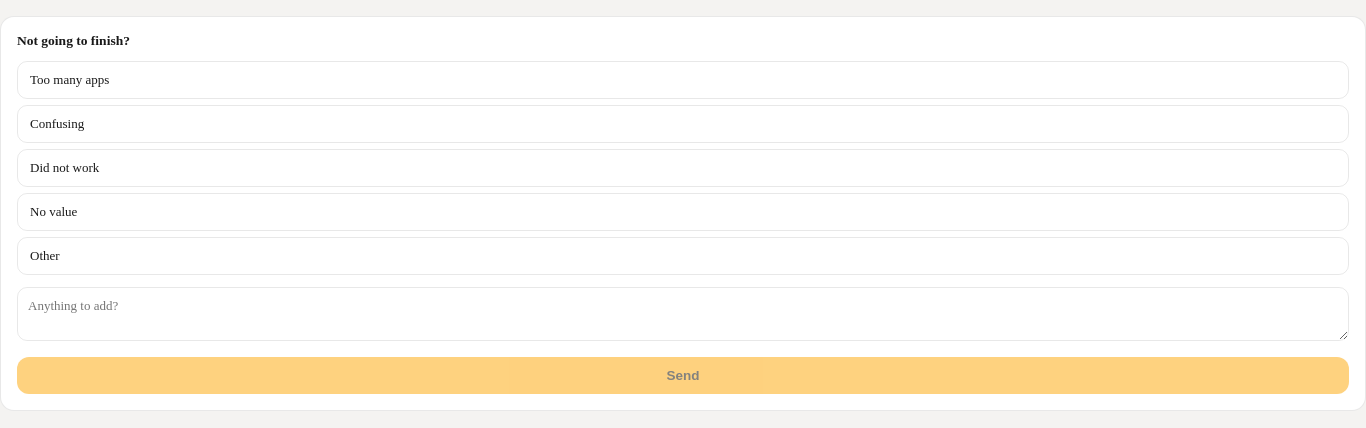
StopReasonCard — why did you stop, in one tap › sends the chosen reason and the note, then shows the answer back
Click the radio button "No value" at [54, 212], box [17,193,1349,231]
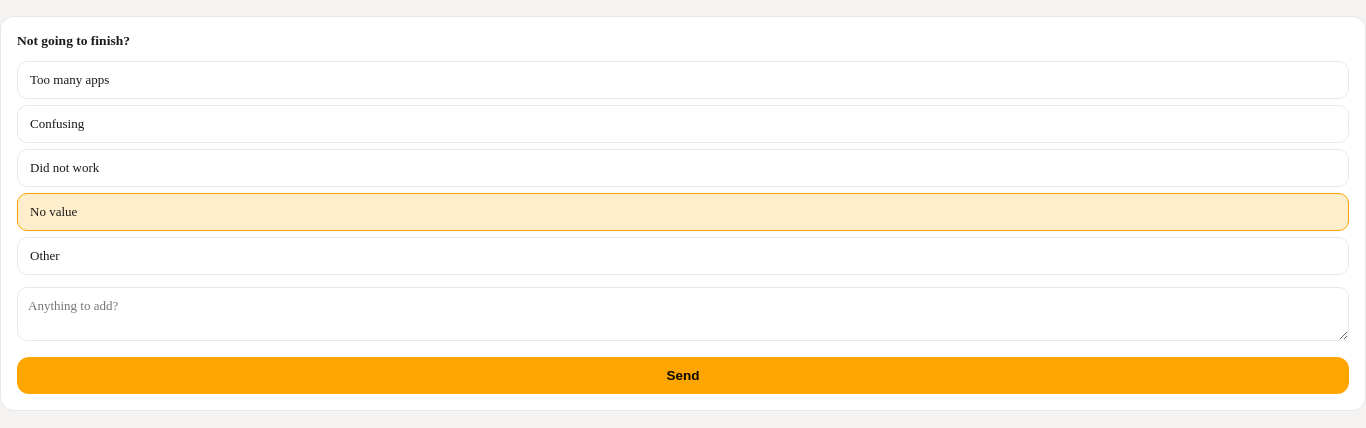
Type "not sure what TEC is" into the text box with placeholder "Anything to add?" at [683, 314], box [17,287,1349,341]
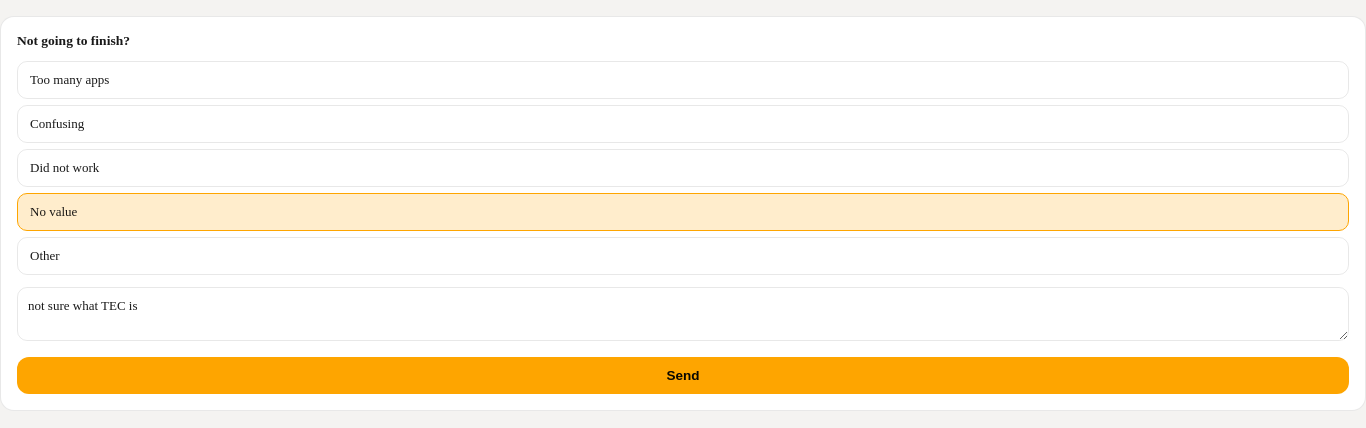
Click the button "Send" at [683, 376], box [17,357,1349,394]
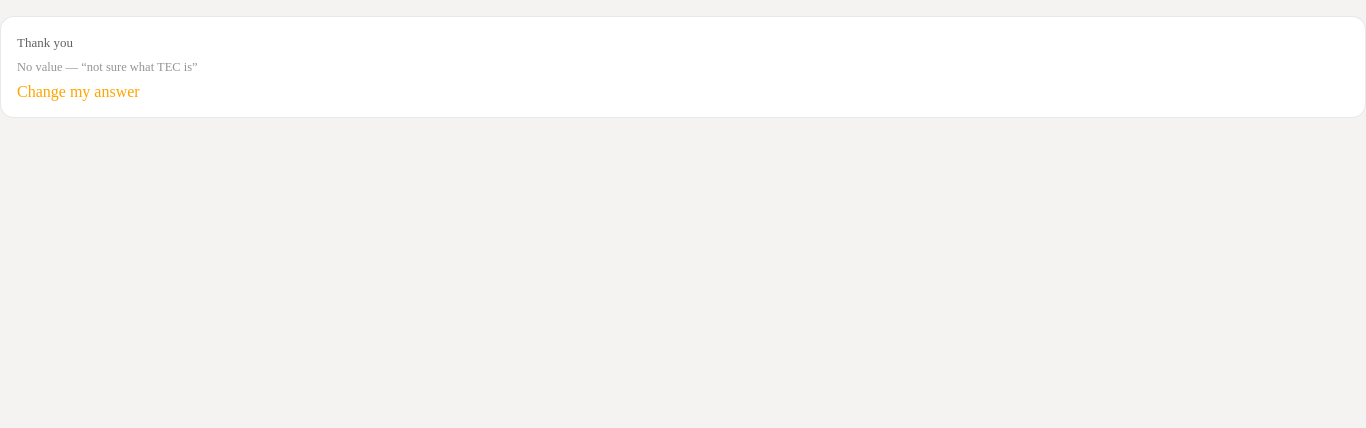
Now the element with test id "stop-reason-saved" is shown, box [0,16,1365,118]
Now the text "No value — “not sure what TEC is”" is shown, box [17,60,198,74]
